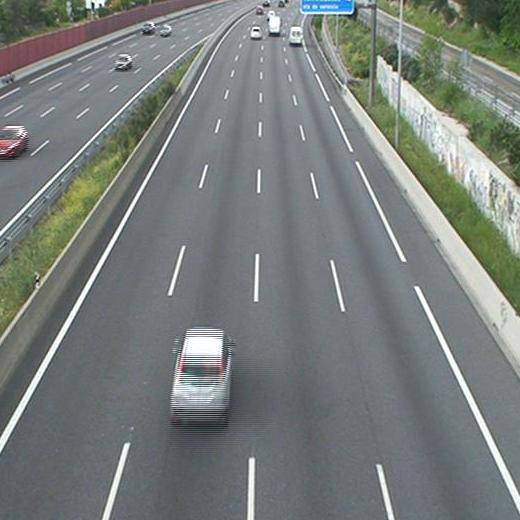car: (170, 324, 236, 430), (249, 26, 262, 39)
van: (290, 25, 303, 47), (269, 15, 280, 37)
